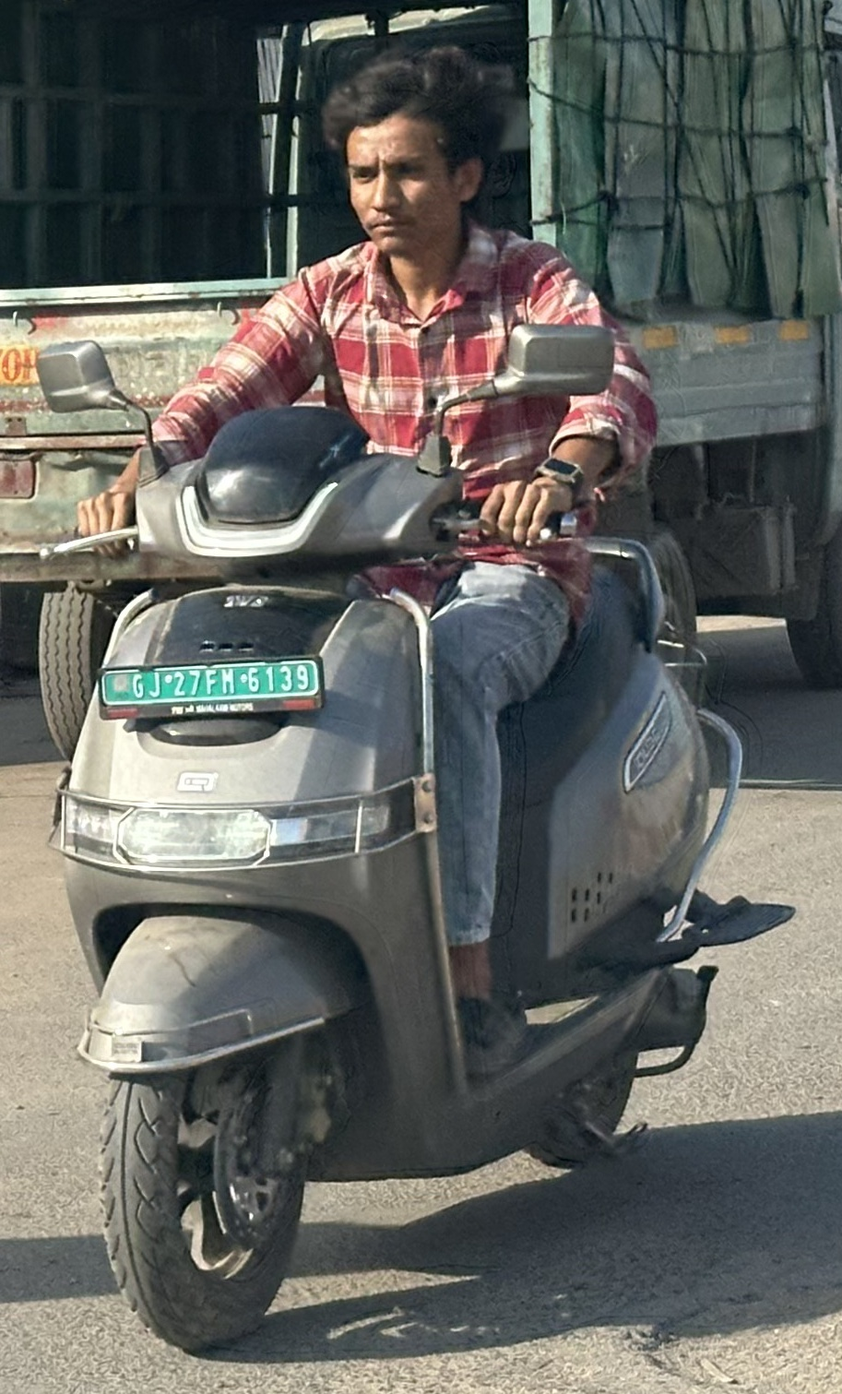BikeWithRider: (19, 31, 808, 1369)
NoHelmet: (309, 34, 515, 266)
